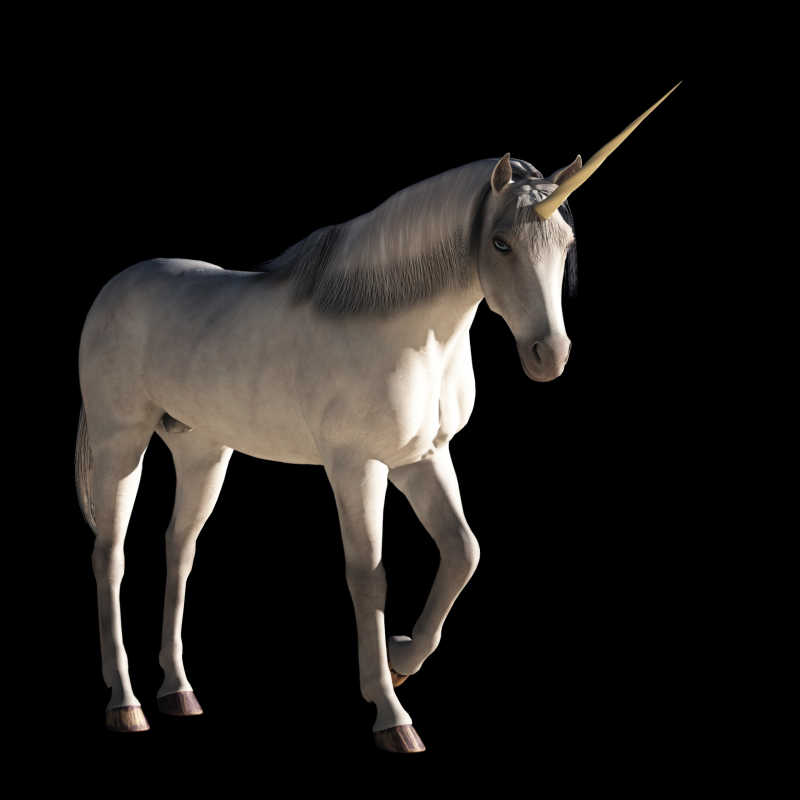background: (59, 69, 689, 769)
